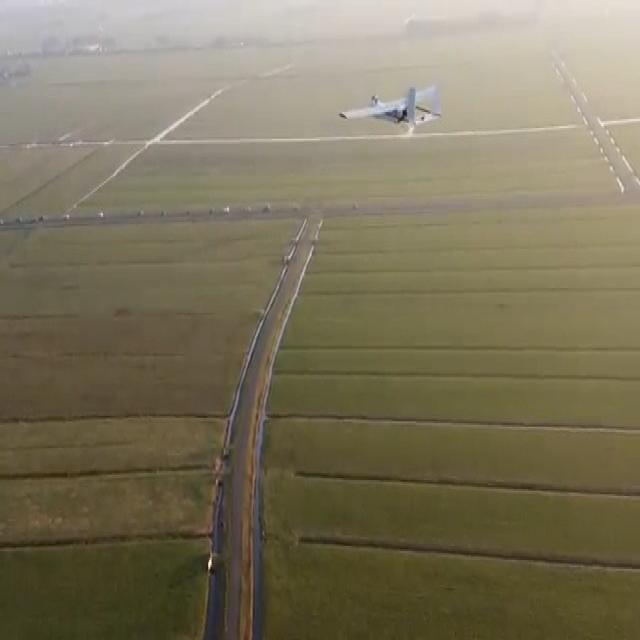drones: (338, 60, 448, 153)
